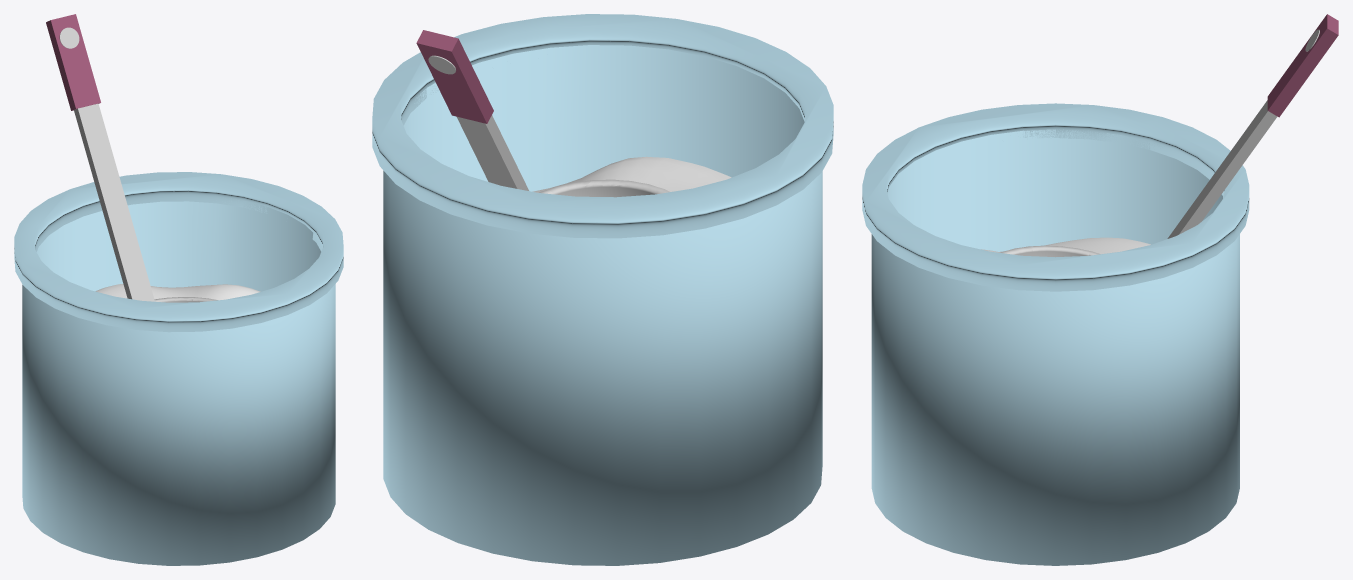
Rendered from batterbucket.fbx.
3 views of the same model, side by side, from view 1: azimuth 30°, elevation 25°; view 2: azimuth 150°, elevation 25°; view 3: azimuth 270°, elevation 25° (orthographic). The views are drawn at different scales.
Parts seen in each view (by area): view 1: Cylinder, Cylinder.002, Cube, Cube.001, Sphere.006; view 2: Cylinder, Cylinder.002, Cube.001, Sphere.006, Cube, Sphere; view 3: Cylinder, Cylinder.002, Cube, Cube.001, Sphere.006, Sphere.
Part boxes in pixels (bbox=[...]): Cylinder: bbox=[22, 198, 335, 565]; Cylinder.002: bbox=[14, 172, 343, 332]; Cube: bbox=[74, 103, 154, 301]; Cube.001: bbox=[46, 14, 100, 110]; Sphere.006: bbox=[95, 284, 260, 300]; Cylinder: bbox=[383, 45, 822, 565]; Cylinder.002: bbox=[372, 14, 833, 238]; Cube.001: bbox=[416, 30, 493, 123]; Sphere.006: bbox=[532, 156, 731, 192]; Cube: bbox=[457, 115, 528, 190]; Sphere: bbox=[539, 179, 669, 197]; Cylinder: bbox=[871, 129, 1239, 565]; Cylinder.002: bbox=[862, 103, 1249, 291]; Cube: bbox=[1167, 100, 1277, 238]; Cube.001: bbox=[1267, 14, 1338, 117]; Sphere.006: bbox=[981, 237, 1150, 254]; Sphere: bbox=[1000, 245, 1100, 257].
Size of the model in its own units: 210 by 280 by 259.
